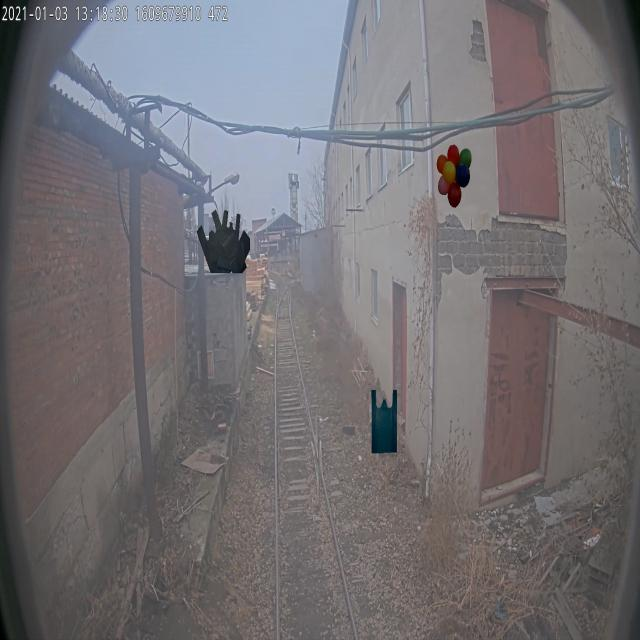balloon: (436, 144, 472, 208)
plastic bag: (196, 209, 250, 273), (371, 389, 397, 454)
